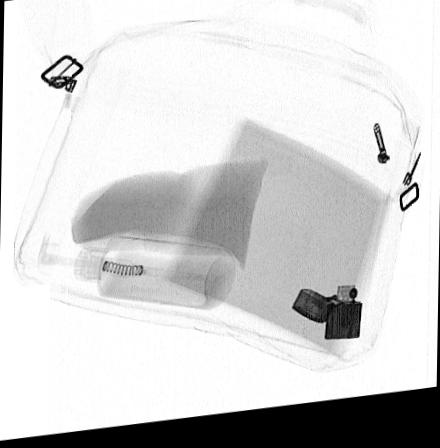Lighter: (290, 293, 361, 348)
